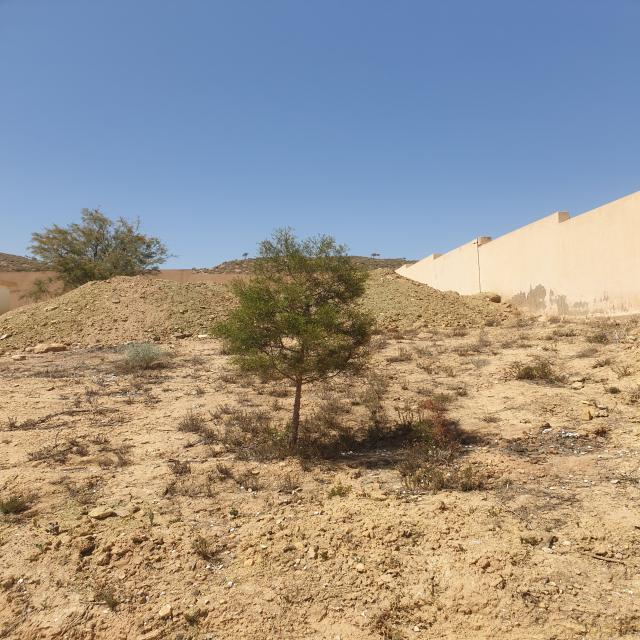Tree: (213, 228, 374, 445)
